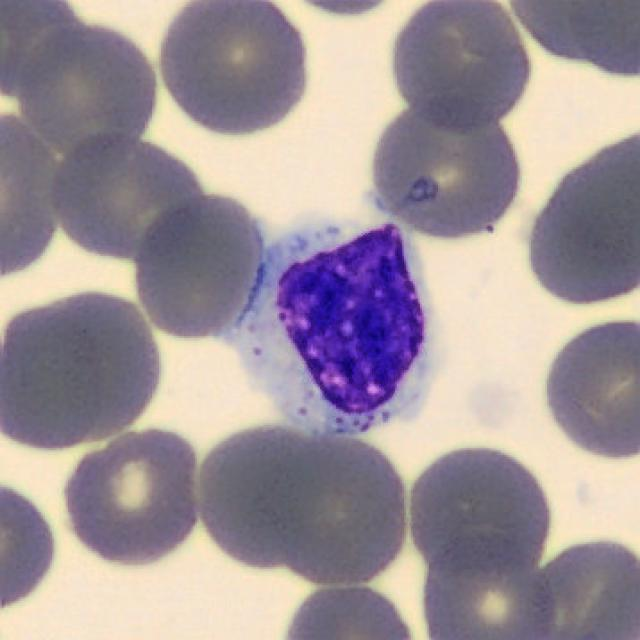Linfocito atipico: (231, 224, 429, 437)
